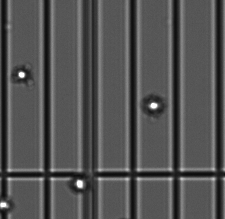Living Cell: (143, 95, 164, 116), (70, 174, 89, 192), (12, 67, 30, 83), (1, 198, 13, 212)
